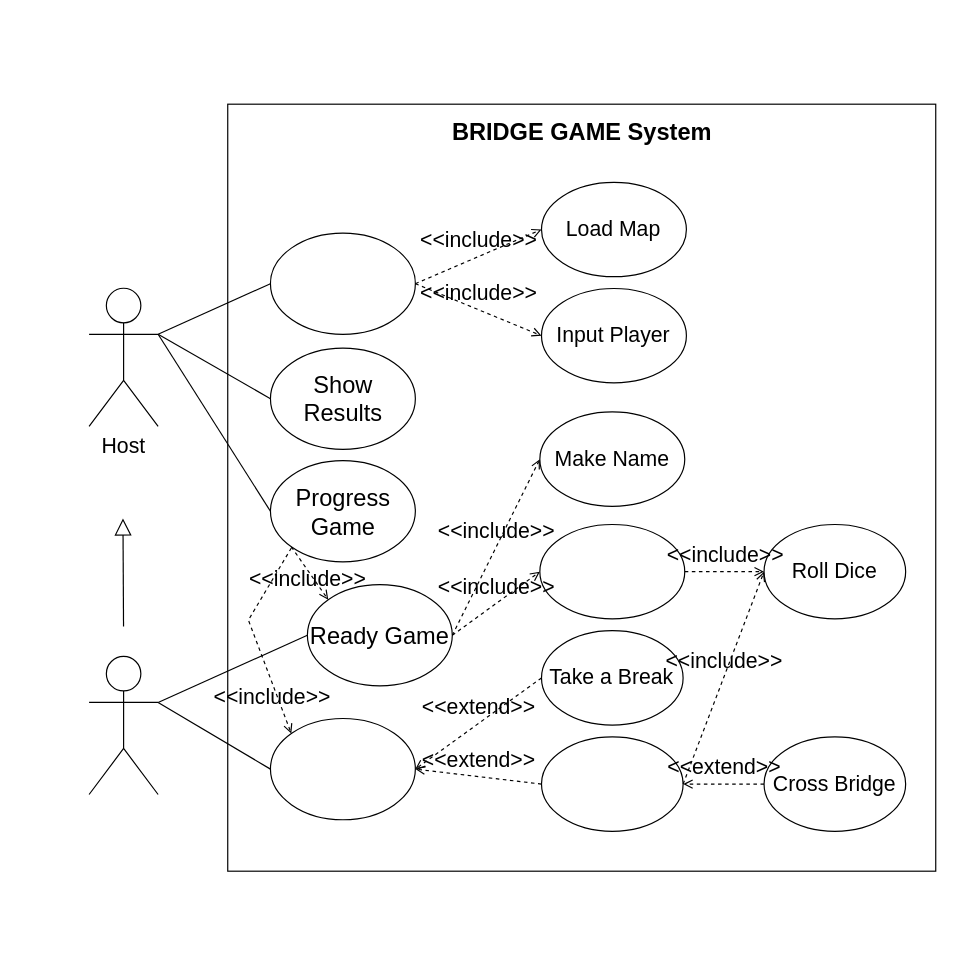
The diagram is 956 pixels wide and 969 high, and some of its shapes have lost their labels. Here are the shapes that lost their labels. From the top down, the box of each, then its label:
(269, 232, 415, 334): Make Game
(539, 523, 685, 619): Decide Turn
(88, 655, 158, 794): Player
(269, 717, 415, 820): Make Decision
(540, 736, 683, 831): Move
